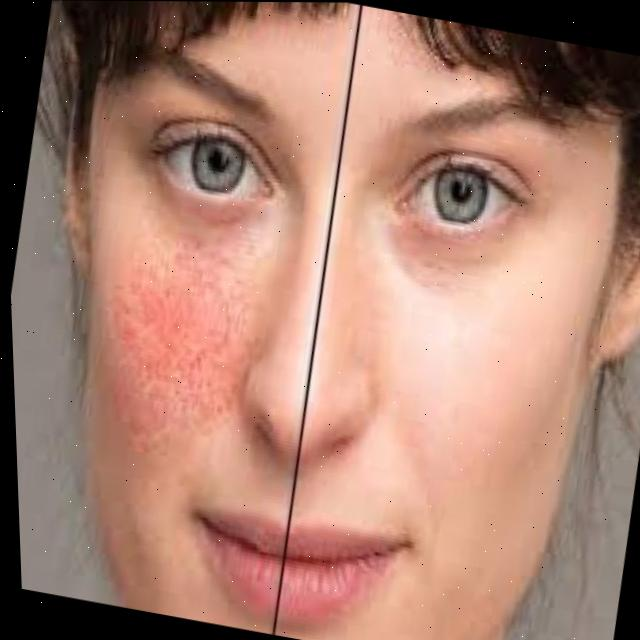Rosacea: (86, 228, 275, 435)
